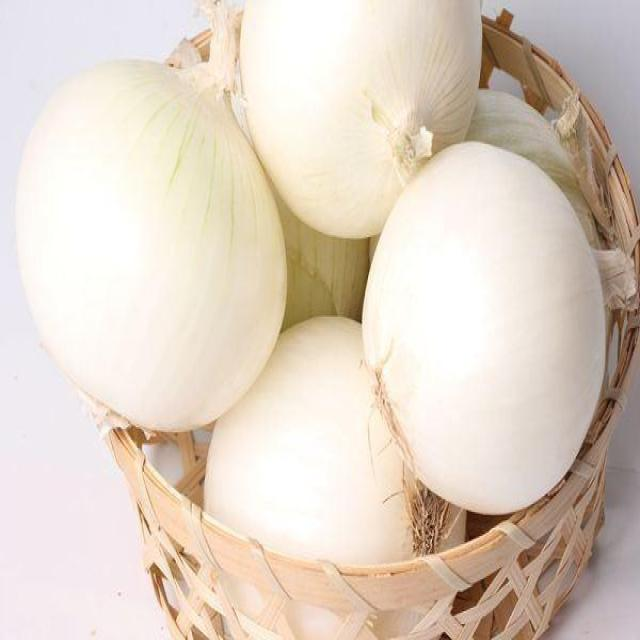Onion: (13, 0, 288, 443), (358, 138, 640, 515), (204, 312, 465, 560), (241, 0, 482, 242), (174, 35, 369, 328), (464, 86, 618, 252)
